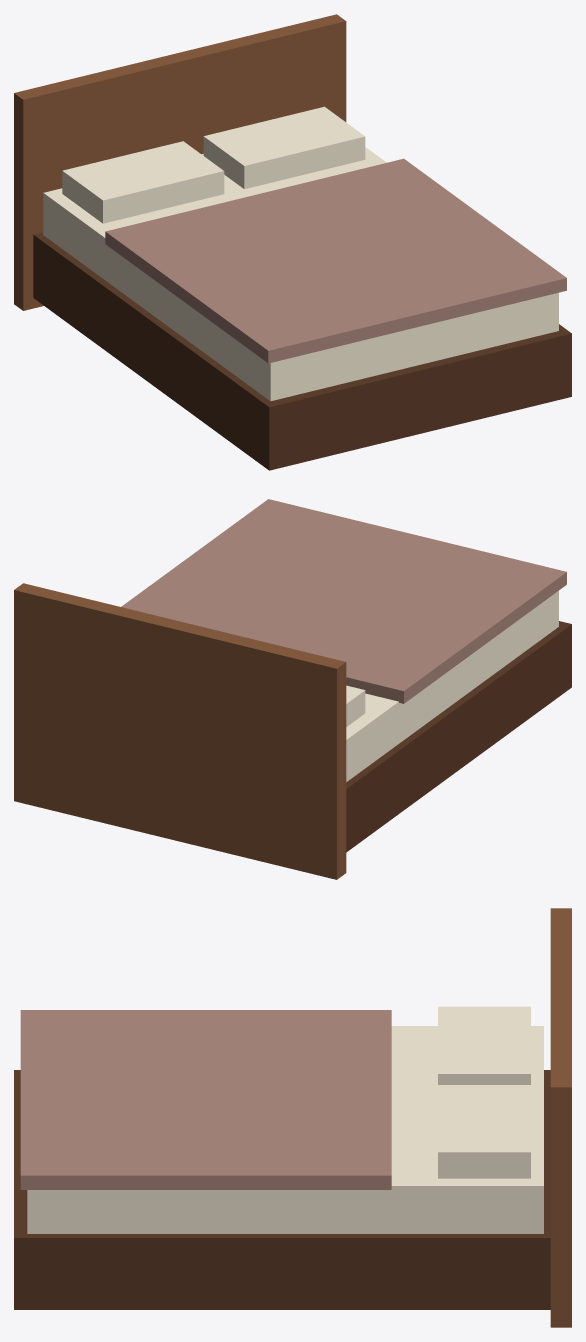
Rendered from parents_bed.glb.
The picture shows the model from 3 angles, top to bottom: view 1: azimuth 30°, elevation 25°; view 2: azimuth 150°, elevation 25°; view 3: azimuth 270°, elevation 25°; orthographic projection. The views are drawn at different scales.
Parts seen in each view (by area): view 1: Box3, Box1, Box6, Box2, Box4, Box5; view 2: Box6, Box3, Box1, Box2, Box4; view 3: Box3, Box1, Box2, Box6, Box5, Box4.
Part boxes in pixels (<box>): Box3: <box>105,158,566,363</box>; Box1: <box>33,232,571,470</box>; Box6: <box>14,14,346,310</box>; Box2: <box>43,147,558,401</box>; Box4: <box>62,141,224,223</box>; Box5: <box>203,106,365,189</box>; Box6: <box>14,583,346,879</box>; Box3: <box>121,499,566,703</box>; Box1: <box>346,621,571,852</box>; Box2: <box>346,590,558,781</box>; Box4: <box>346,685,365,726</box>; Box3: <box>20,1010,391,1189</box>; Box1: <box>14,1070,550,1309</box>; Box2: <box>27,1026,543,1233</box>; Box6: <box>550,908,571,1327</box>; Box5: <box>438,1085,530,1178</box>; Box4: <box>438,1006,530,1084</box>.
Bounding box in the file's own units: 1.6 × 1 × 2.1.
